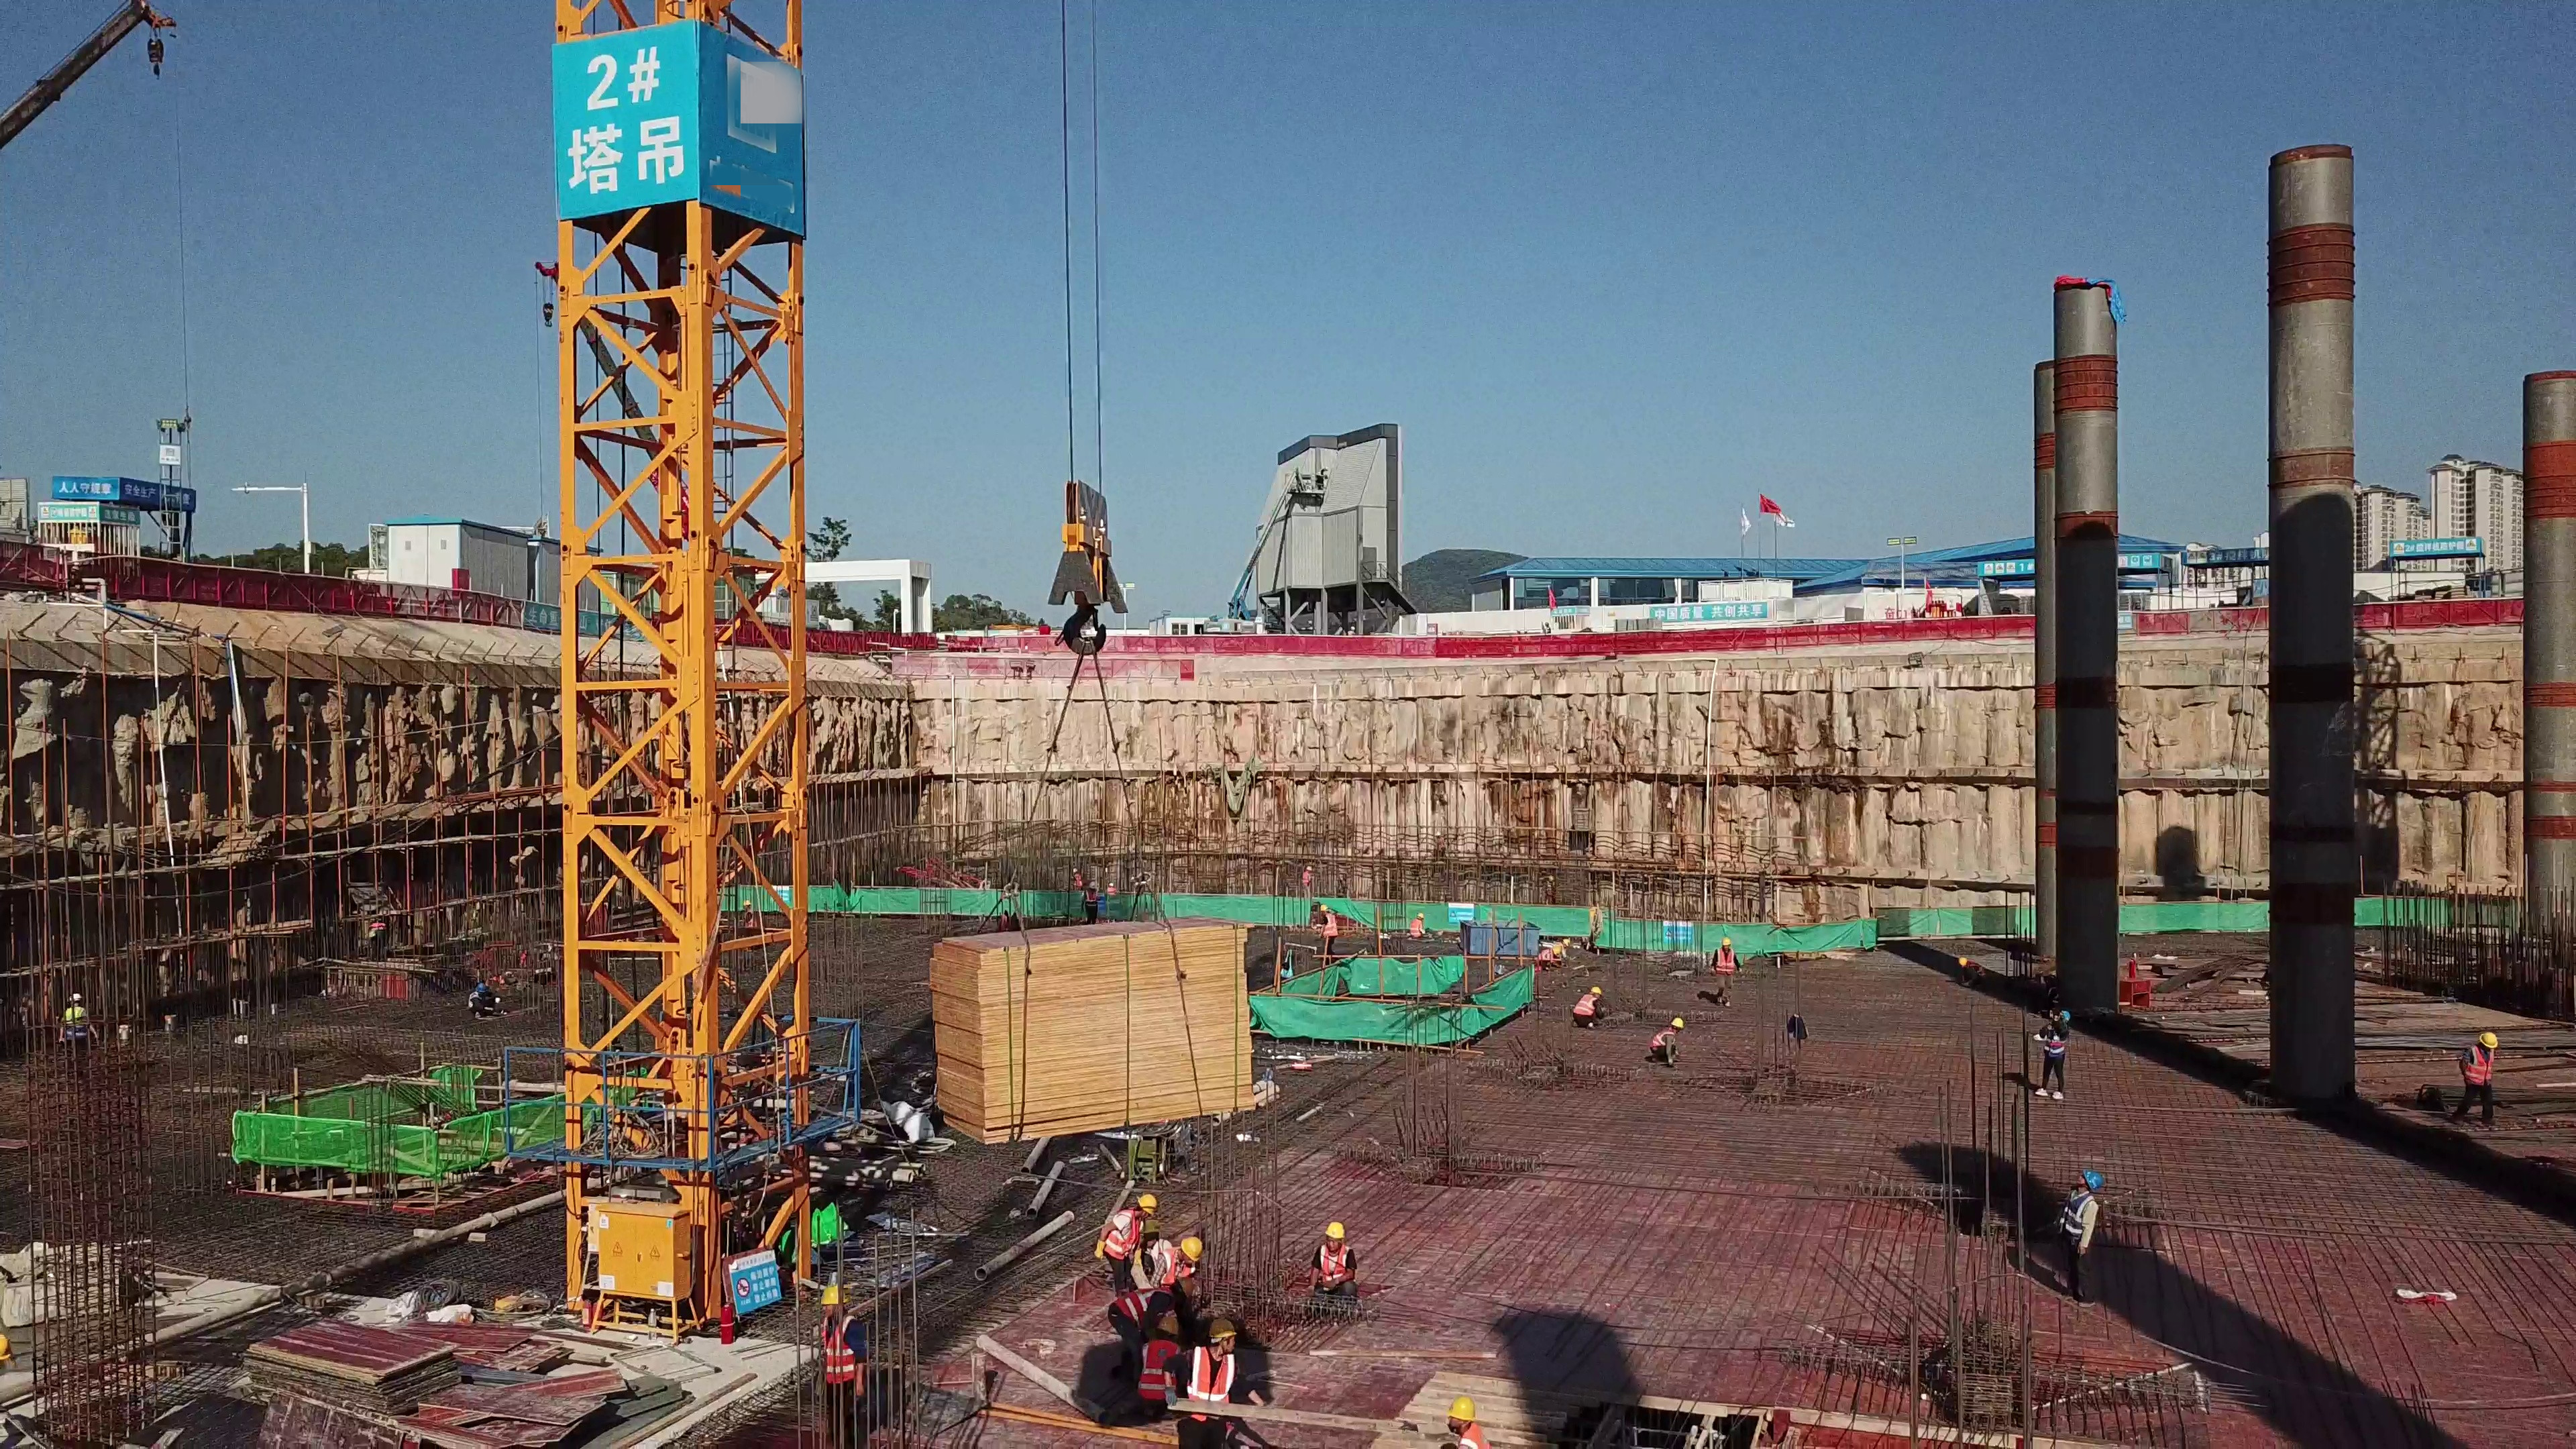board: (934, 922, 1265, 1142)
brick: (1610, 610, 1670, 633)
ebox: (584, 1190, 693, 1344)
fence: (169, 563, 481, 618), (1419, 628, 1790, 665)
helmet: (1445, 1395, 1479, 1419), (1319, 1219, 1350, 1242), (1206, 1316, 1237, 1337), (1142, 1191, 1163, 1218), (1174, 1235, 1200, 1256), (2079, 1166, 2104, 1187), (1159, 1309, 1178, 1334), (2477, 1029, 2496, 1051), (823, 1285, 843, 1302), (2058, 1010, 2074, 1023), (475, 983, 487, 994), (1672, 1018, 1684, 1031), (67, 991, 80, 1002), (1591, 985, 1603, 996), (741, 900, 755, 908), (1719, 937, 1733, 945), (1089, 881, 1098, 890), (1957, 957, 1968, 967), (1562, 939, 1571, 949), (1553, 946, 1561, 955), (1071, 868, 1078, 875), (1415, 913, 1425, 918), (1108, 883, 1115, 888)
hook: (1049, 479, 1128, 664), (150, 37, 169, 82), (540, 300, 557, 331)
hopper: (1456, 920, 1536, 965)
person: (2047, 1161, 2133, 1312), (807, 1277, 880, 1435), (1175, 1313, 1248, 1449), (1111, 1279, 1180, 1424), (2440, 1018, 2512, 1134), (1303, 1216, 1373, 1316), (2023, 1004, 2083, 1111), (1095, 1186, 1152, 1289), (1430, 1397, 1507, 1447), (48, 993, 96, 1074), (1148, 1238, 1215, 1289), (1705, 936, 1743, 1018), (1644, 1012, 1694, 1073), (1566, 981, 1609, 1029), (1316, 900, 1347, 965), (467, 982, 508, 1024), (1075, 879, 1105, 930), (1534, 937, 1575, 971), (1955, 955, 1991, 991), (369, 916, 392, 967), (741, 898, 759, 953), (1405, 912, 1436, 939), (1293, 861, 1320, 894), (1068, 866, 1084, 890), (1104, 879, 1120, 896), (1540, 619, 1554, 638)
slogan: (559, 32, 713, 202), (515, 604, 665, 650), (1984, 555, 2167, 574), (131, 474, 200, 507), (1652, 604, 1772, 623), (2187, 547, 2273, 568), (52, 475, 119, 499), (2397, 537, 2478, 556), (42, 501, 97, 521), (103, 509, 135, 523)
vest: (818, 1322, 867, 1388), (1191, 1350, 1226, 1419), (1145, 1334, 1175, 1404), (1107, 1209, 1138, 1261), (1152, 1249, 1193, 1283), (2062, 1191, 2088, 1244), (2467, 1046, 2496, 1083), (1320, 1247, 1348, 1281), (59, 1010, 85, 1038), (1121, 1289, 1146, 1312), (1649, 1028, 1676, 1051), (2046, 1027, 2065, 1057), (1715, 951, 1735, 977), (1574, 995, 1596, 1018), (467, 995, 489, 1014), (743, 912, 757, 932), (1409, 920, 1424, 936), (1969, 959, 1986, 975), (1083, 891, 1096, 908), (1537, 950, 1554, 963), (1073, 875, 1083, 885), (1108, 889, 1116, 895)
